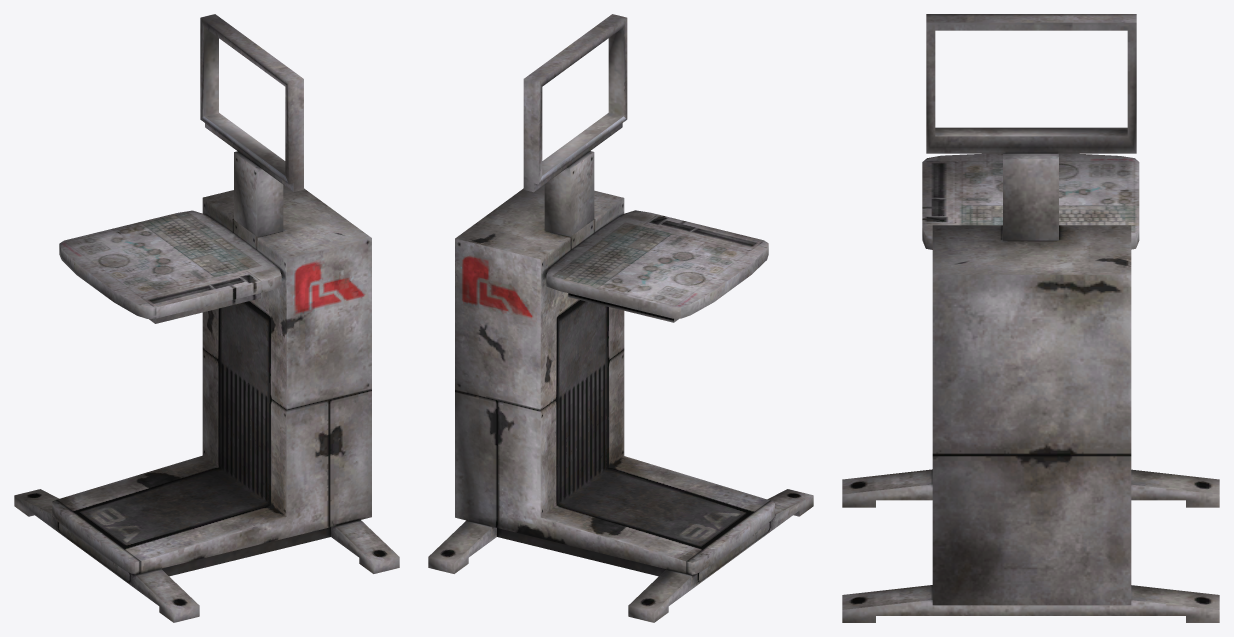
The model's file is EquipmentLab07_Worn.FBX.
3 renders of one model, left to right at view 1: azimuth 30°, elevation 25°; view 2: azimuth 150°, elevation 25°; view 3: azimuth 270°, elevation 25°, orthographic. The views are drawn at different scales.
Visible parts, largest first — view 1: EquipmentLab07_Worn; view 2: EquipmentLab07_Worn; view 3: EquipmentLab07_Worn.
Part boxes in pixels (left/top/right/bottom): EquipmentLab07_Worn: left=14, top=14, right=399, bottom=622; EquipmentLab07_Worn: left=428, top=14, right=813, bottom=622; EquipmentLab07_Worn: left=842, top=14, right=1219, bottom=622.
Size of the model in its own units: 0.9509 by 1.8 by 1.09.
